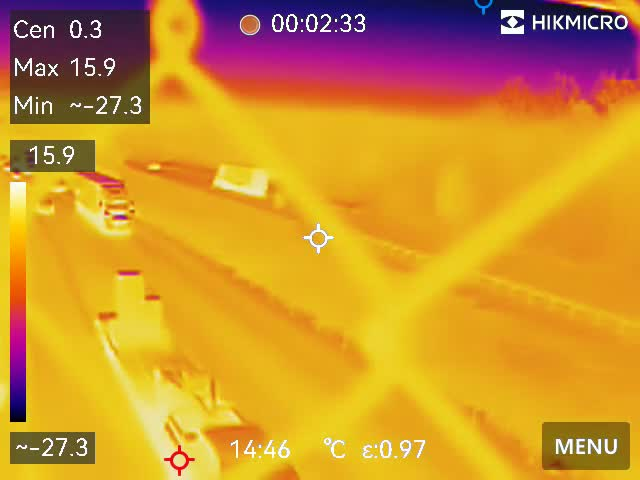heavyTruck: (69, 165, 146, 234), (206, 157, 282, 205)
